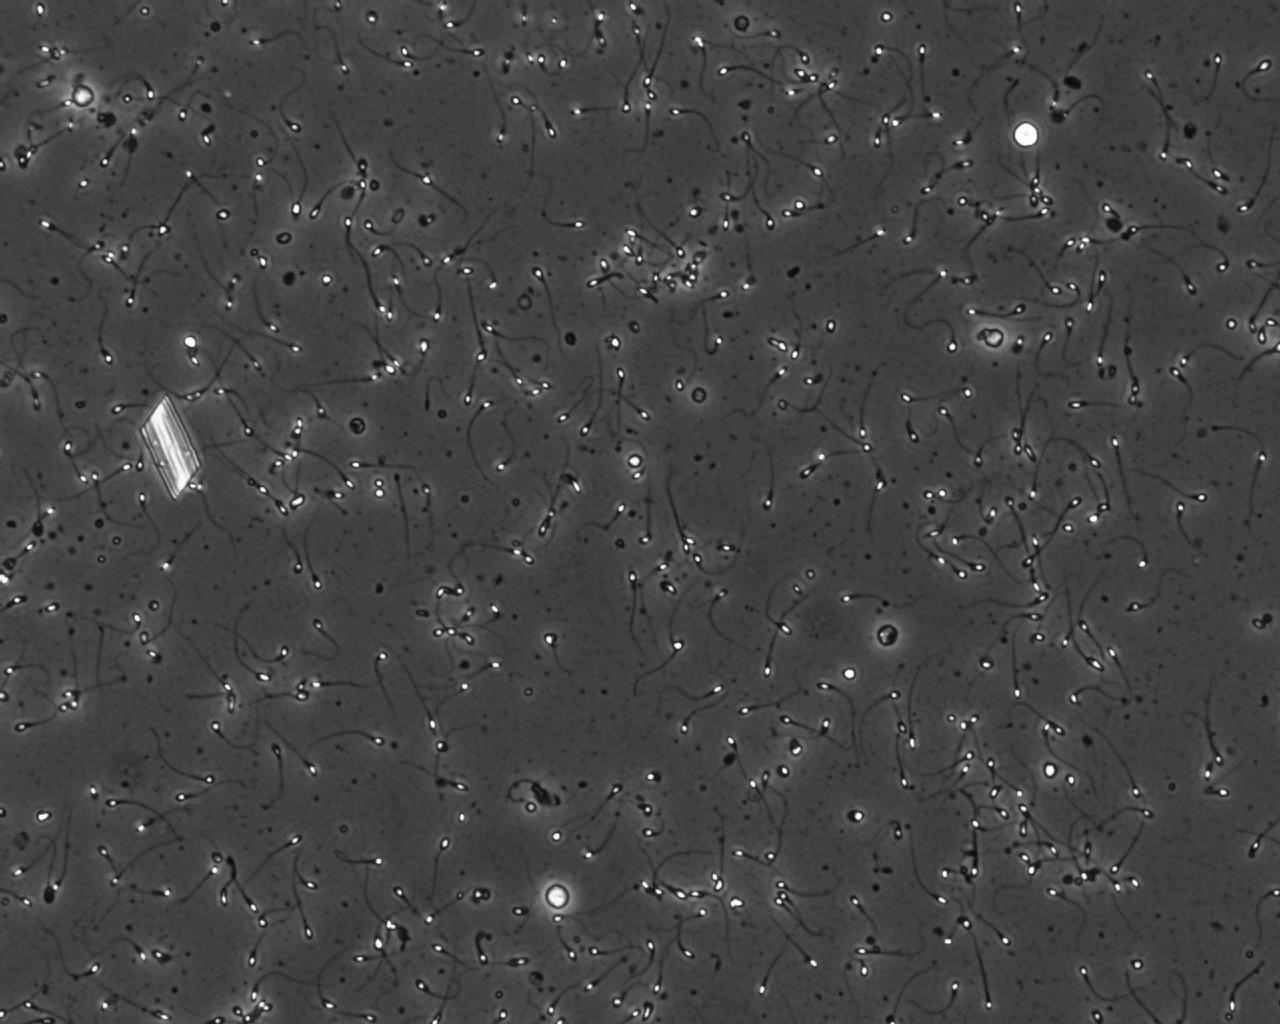cell: (1009, 117, 1042, 152), (542, 880, 573, 914), (66, 80, 99, 111), (872, 620, 902, 649), (980, 325, 1009, 350), (686, 383, 712, 408), (345, 413, 369, 438), (729, 11, 753, 36), (273, 228, 296, 248)
